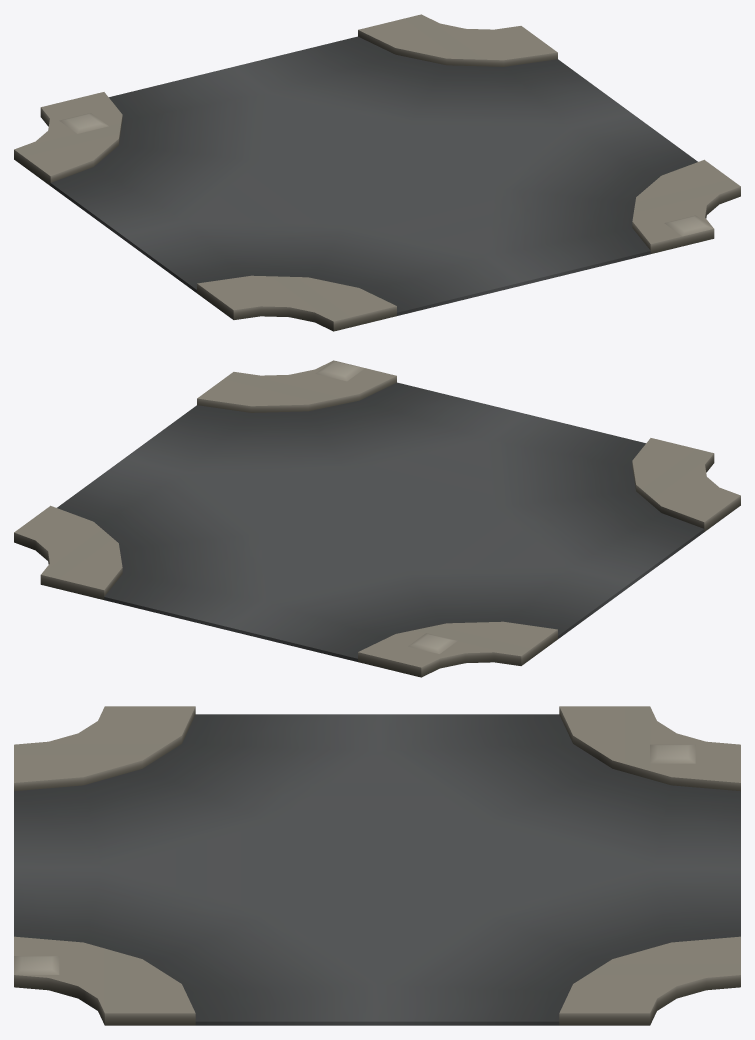
The model's file is Road_1G.fbx.
3 views of the same model, one above another, from view 1: azimuth 30°, elevation 25°; view 2: azimuth 150°, elevation 25°; view 3: azimuth 270°, elevation 25° (orthographic). The views are drawn at different scales.
Visible parts, largest first — view 1: Road_1G; view 2: Road_1G; view 3: Road_1G.
Boxes of the visible parts, <box> form: Road_1G: <box>14,14,740,331</box>; Road_1G: <box>14,360,740,677</box>; Road_1G: <box>14,706,740,1025</box>.
Bounding box in the file's own units: 16 × 0.3565 × 16.
